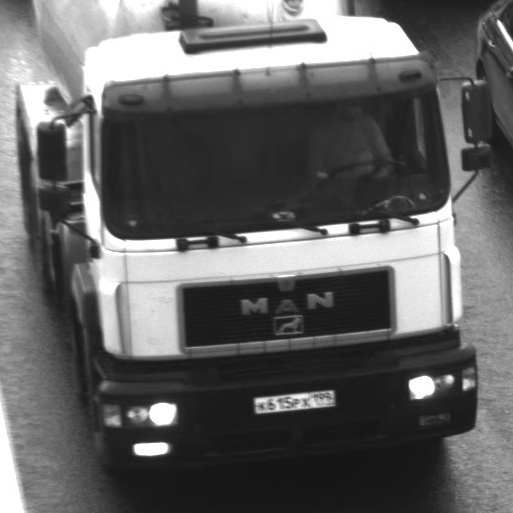plate: (242, 378, 345, 420)
